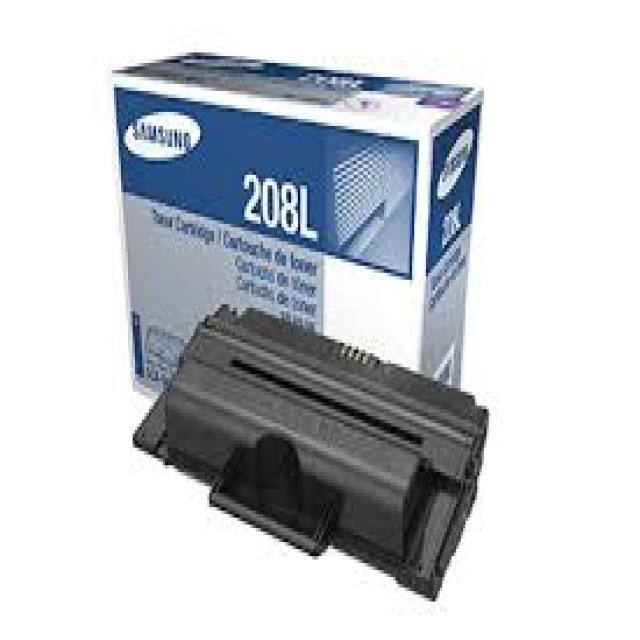printer: (132, 301, 492, 604)
